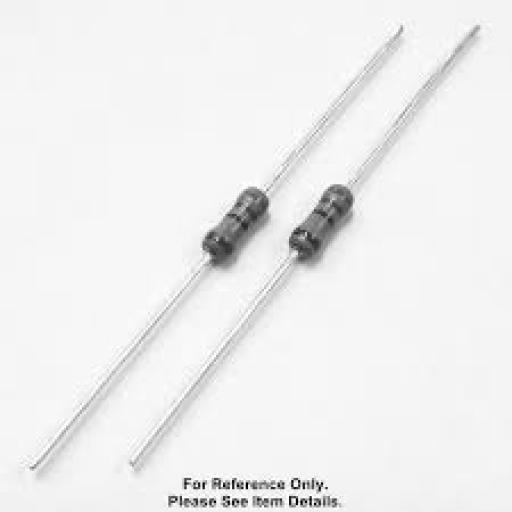RESISTOR: (148, 177, 288, 295), (265, 188, 398, 302)
